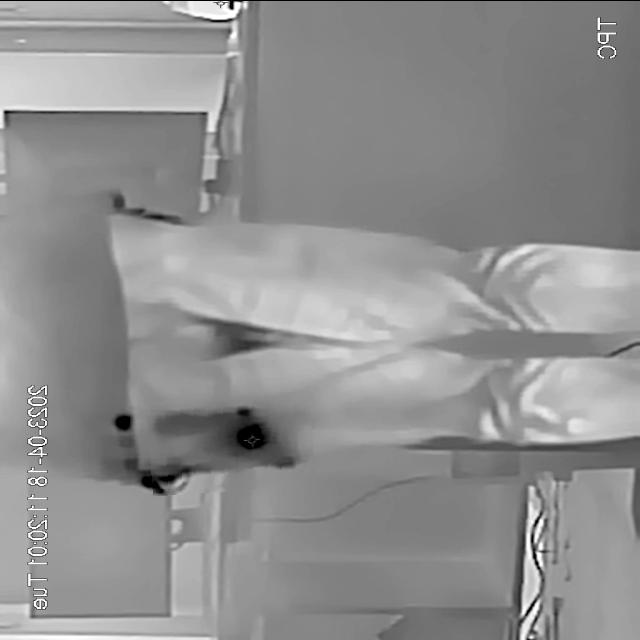Weapon: (148, 392, 314, 492)
